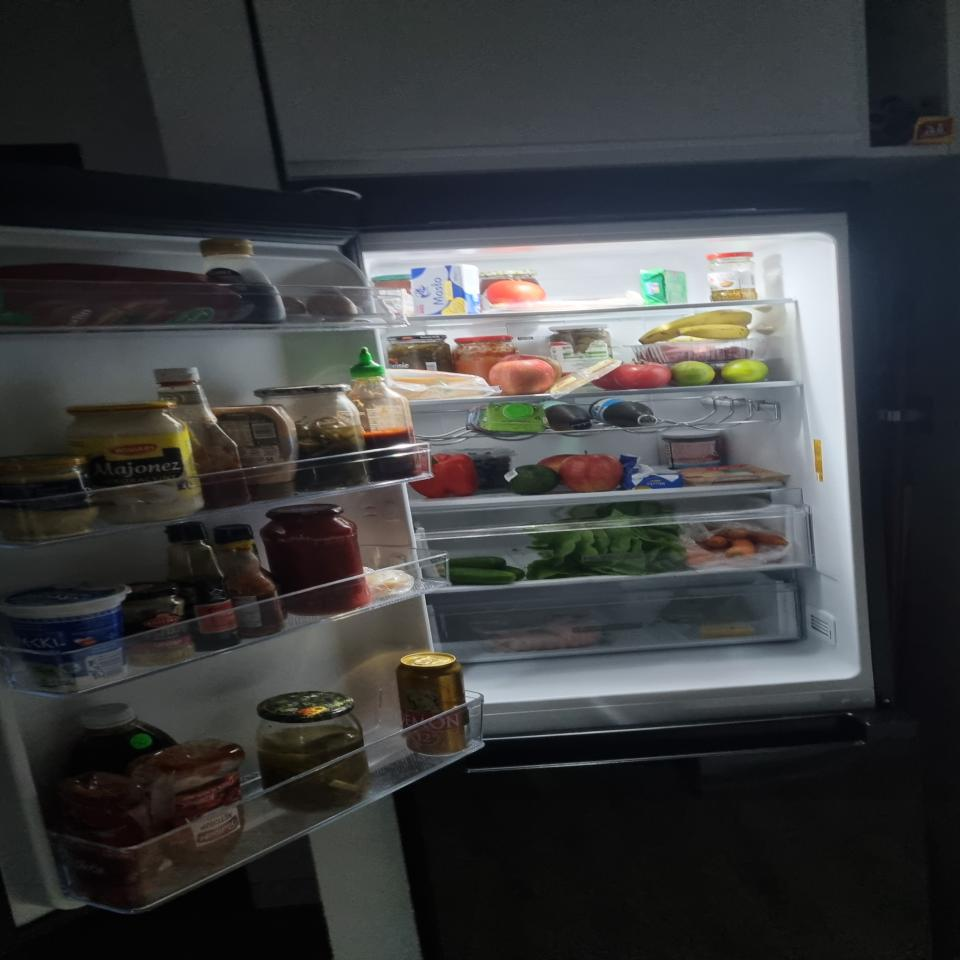Aguacate: (508, 467, 557, 494)
Carne pollo: (486, 611, 604, 652)
Huevos: (305, 291, 358, 322)
Lechuga/Endivia: (526, 499, 688, 580)
Mantequilla: (409, 264, 482, 316), (620, 455, 682, 489), (639, 268, 689, 306)
Manzana: (488, 360, 553, 395), (564, 455, 621, 492)
Pepino: (445, 556, 523, 584)
Plátano: (638, 309, 754, 343)
Queso: (674, 463, 792, 485), (390, 377, 480, 399), (700, 622, 755, 638)
Tomate: (489, 280, 544, 307), (616, 364, 670, 388)
Yogur: (7, 582, 132, 689)
Zanahoria: (683, 524, 785, 567)
